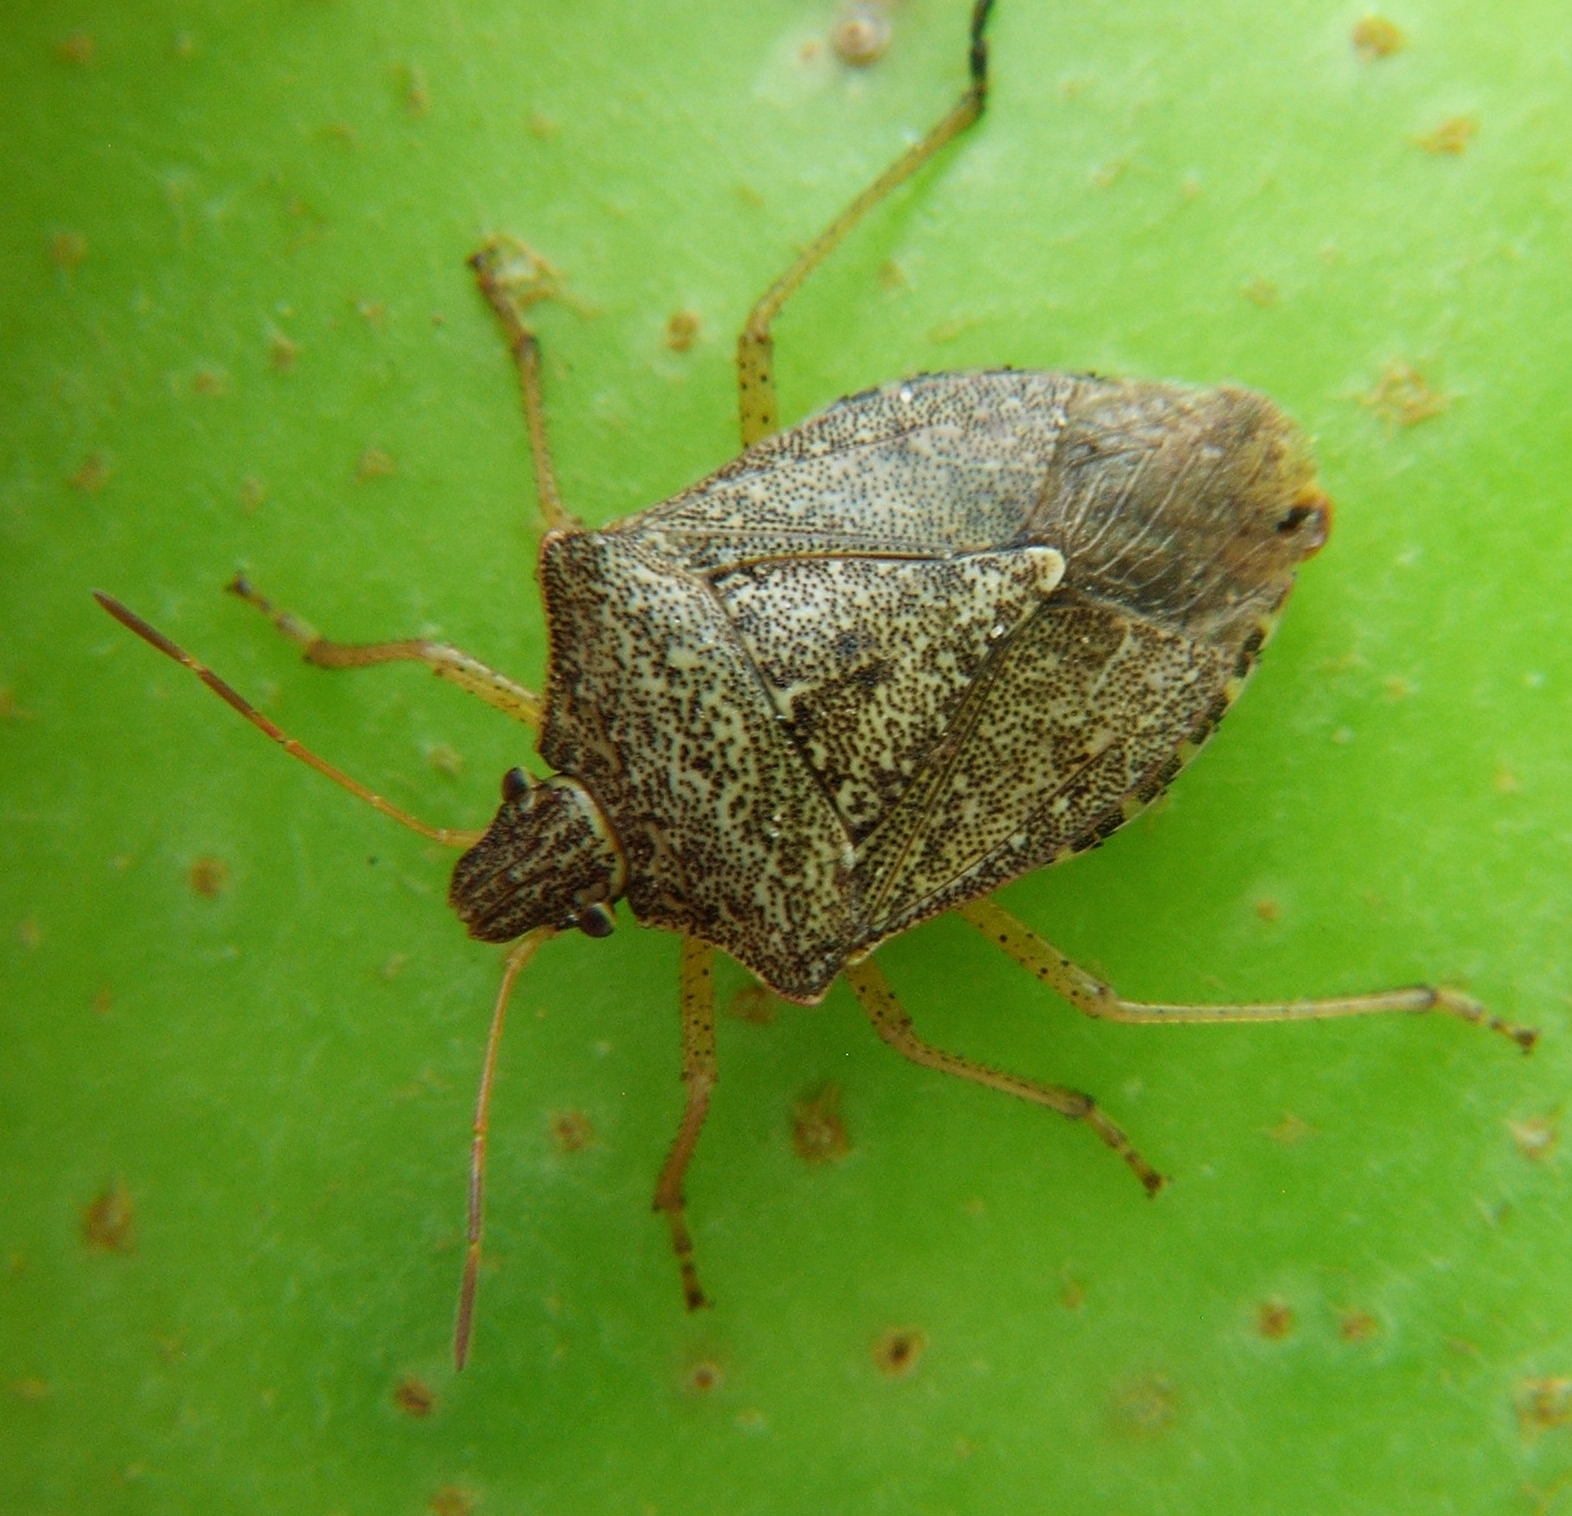Brown Marmorated Stink Bug: (70, 2, 1557, 1392)
